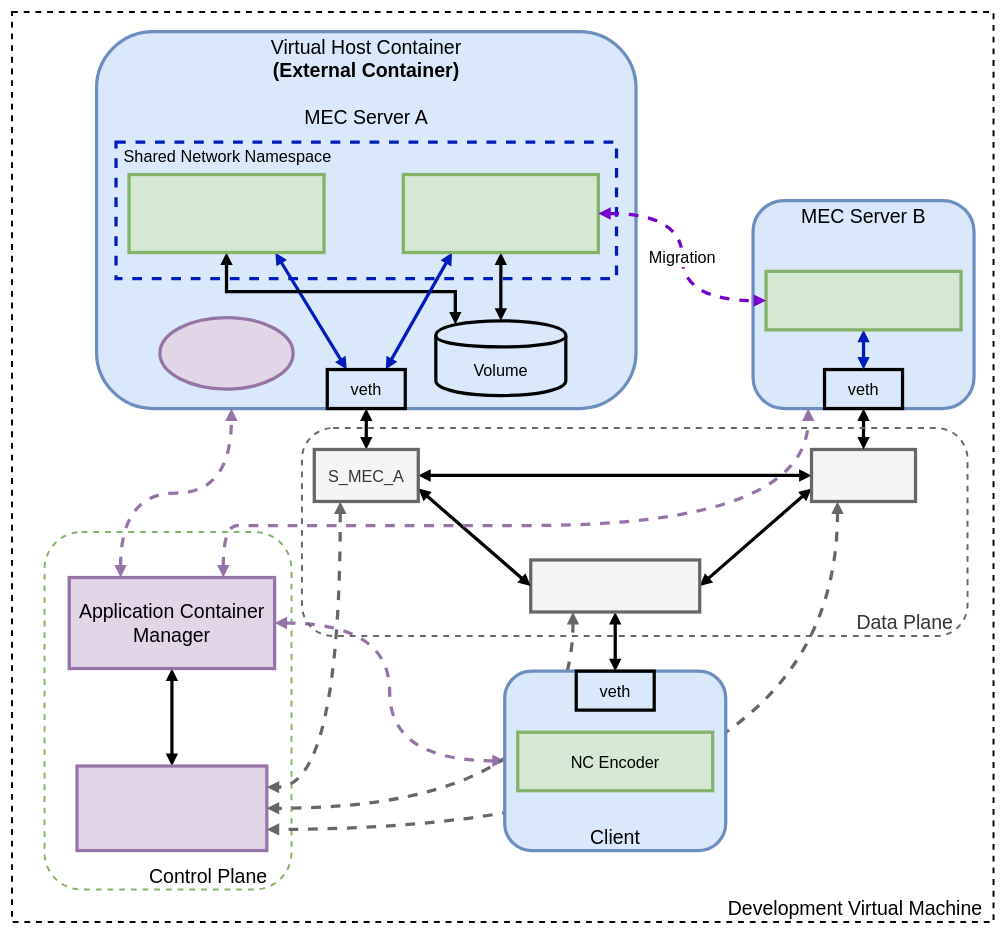
This 1006x934 diagram has some shape labels left out. Here are the shapes that lost their labels. From the top down, the centre of each, then its label:
At (x=226, y=213): "Application Container 1 (Internal Container)".
At (x=500, y=213): "Application Container 2 NC Recoder".
At (x=863, y=300): "NC Recoder".
At (x=226, y=353): "Resources".
At (x=863, y=475): "S_MEC_B".
At (x=615, y=585): "Virtual Switch Client".
At (x=171, y=808): "SDN Controller".
